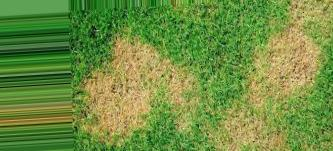patch: (84, 66, 134, 131), (246, 42, 299, 94), (225, 98, 260, 146), (287, 23, 316, 70), (156, 63, 188, 101), (115, 41, 148, 64), (139, 69, 152, 115), (183, 105, 200, 130)
